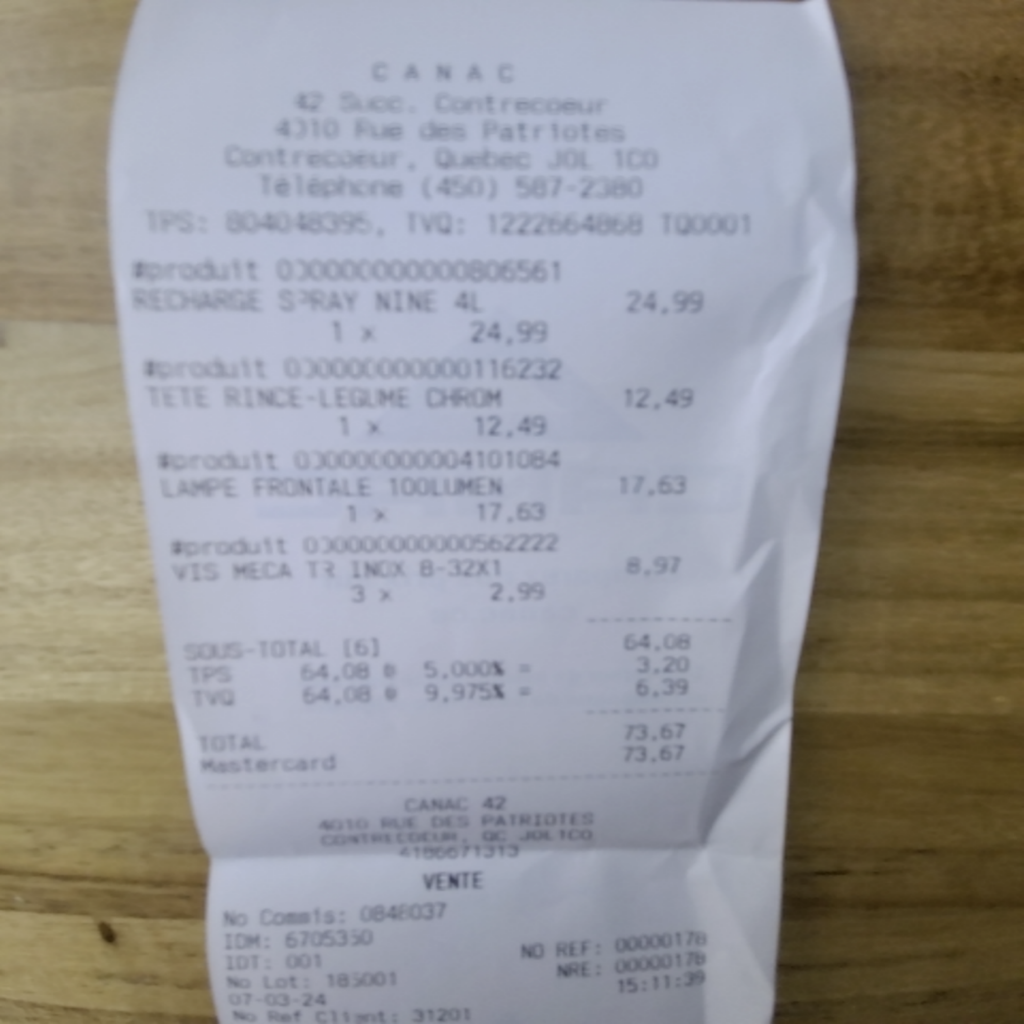recipt: (105, 0, 858, 1020)
